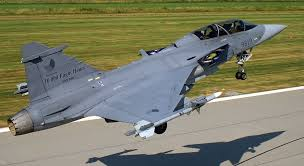fighter: (5, 16, 290, 140)
